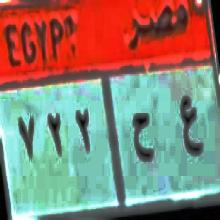2: (45, 110, 66, 166), (73, 104, 93, 160)
7: (16, 112, 37, 166)
7aa: (130, 107, 157, 169)
ain: (177, 91, 203, 164)
